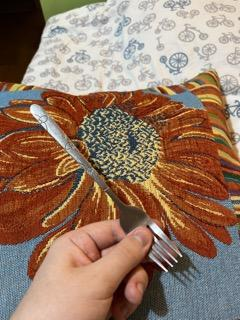fork: (29, 102, 184, 275)
